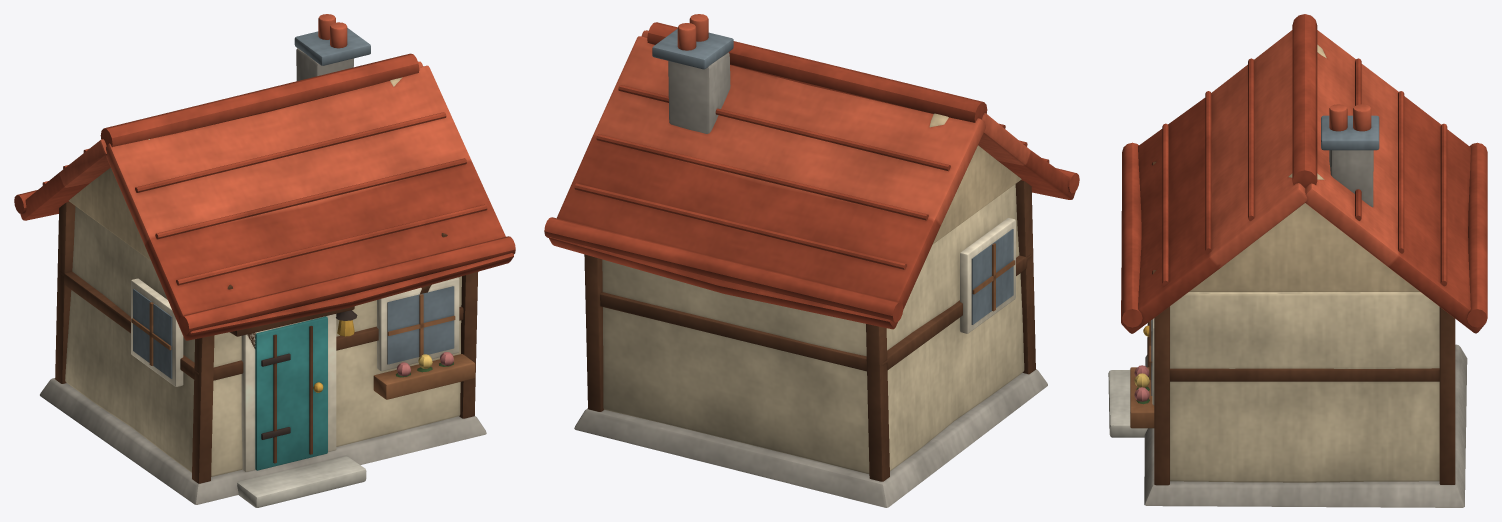
The model's file is cottage.glb.
3 views of the same model, side by side, from view 1: azimuth 30°, elevation 25°; view 2: azimuth 150°, elevation 25°; view 3: azimuth 270°, elevation 25° (orthographic). The views are drawn at different scales.
Parts seen in each view (by area): view 1: Cottage; view 2: Cottage; view 3: Cottage.
Boxes of the visible parts, <box> form: Cottage: <box>14,14,515,507</box>; Cottage: <box>544,14,1079,507</box>; Cottage: <box>1108,14,1487,507</box>.
Size of the model in its own units: 3.64 by 3.81 by 3.51.
1 material, 1 textured.
